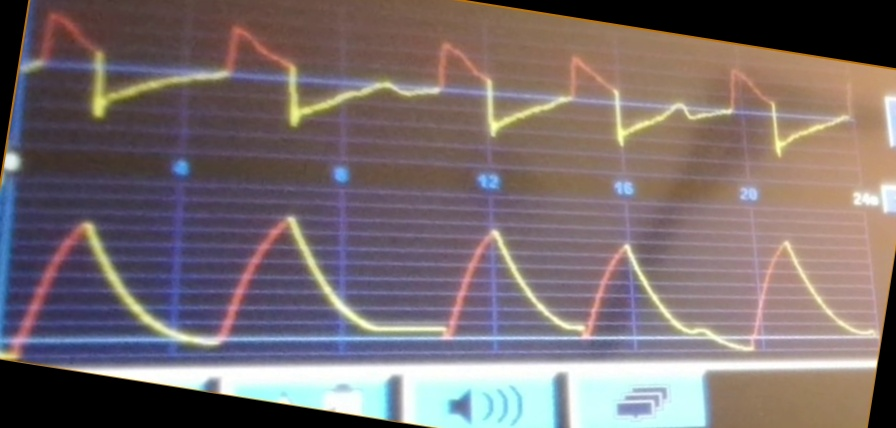Ineffective_effort Flow: (30, 10, 855, 159)
Ineffective_effort Volume: (10, 212, 873, 355)
